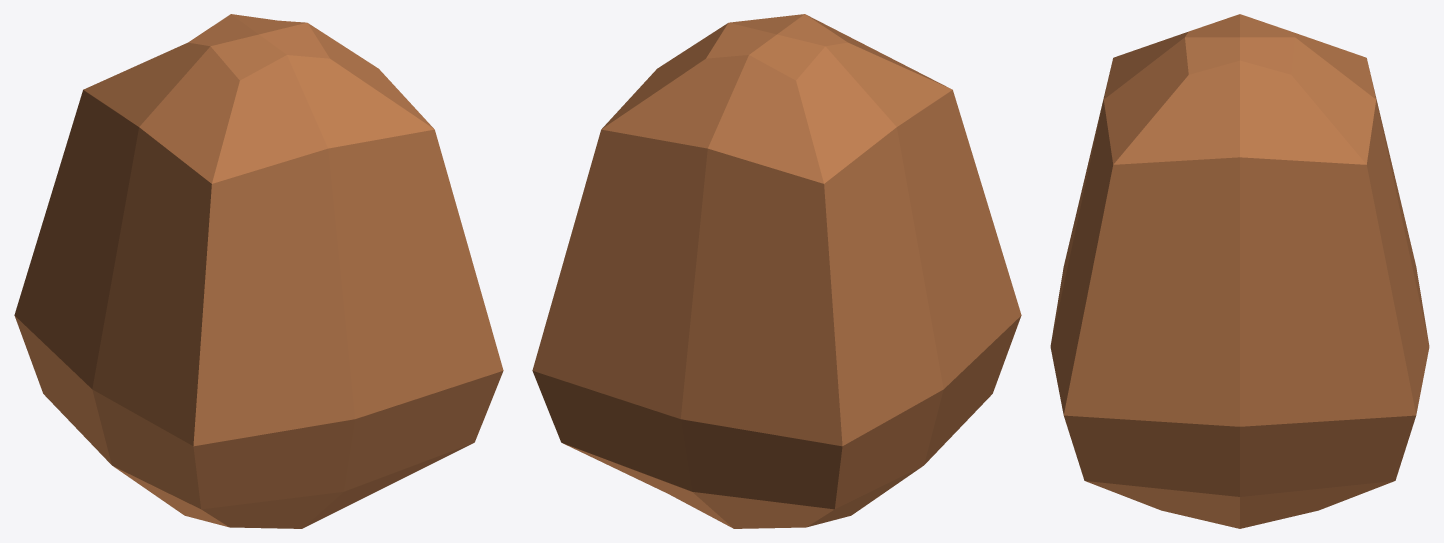
Rendered from boiledEggShell.fbx.
The picture shows the model from 3 angles, left to right: view 1: azimuth 30°, elevation 25°; view 2: azimuth 150°, elevation 25°; view 3: azimuth 270°, elevation 25°; orthographic projection.
Visible parts, largest first — view 1: boiledEggShell; view 2: boiledEggShell; view 3: boiledEggShell.
Boxes of the visible parts, <box> form: boiledEggShell: <box>14,14,503,528</box>; boiledEggShell: <box>532,14,1021,528</box>; boiledEggShell: <box>1050,14,1429,528</box>.
Bounding box in the file's own units: 8 × 10.62 × 8.
1 material, 1 textured.
